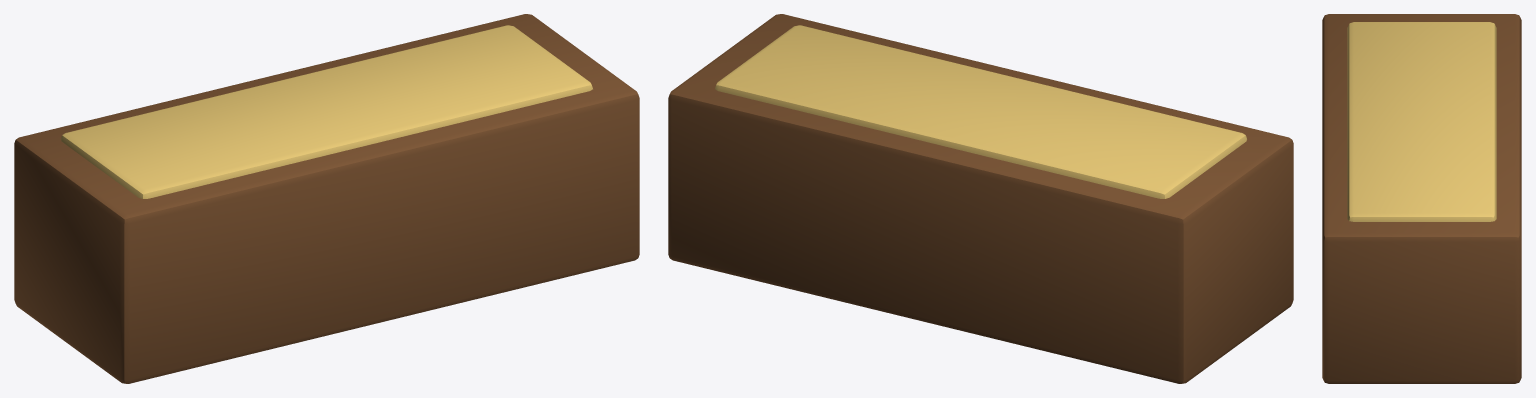
File: trough.glb
3 views of the same model, side by side, from view 1: azimuth 30°, elevation 25°; view 2: azimuth 150°, elevation 25°; view 3: azimuth 270°, elevation 25° (orthographic). The views are drawn at different scales.
Visible parts, largest first — view 1: TroughMesh; view 2: TroughMesh; view 3: TroughMesh.
Boxes of the visible parts, left/top/right/bottom form: TroughMesh: left=14, top=14, right=639, bottom=383; TroughMesh: left=668, top=14, right=1293, bottom=383; TroughMesh: left=1322, top=14, right=1521, bottom=383.
Size of the model in its own units: 1.6 by 0.52 by 0.6.
